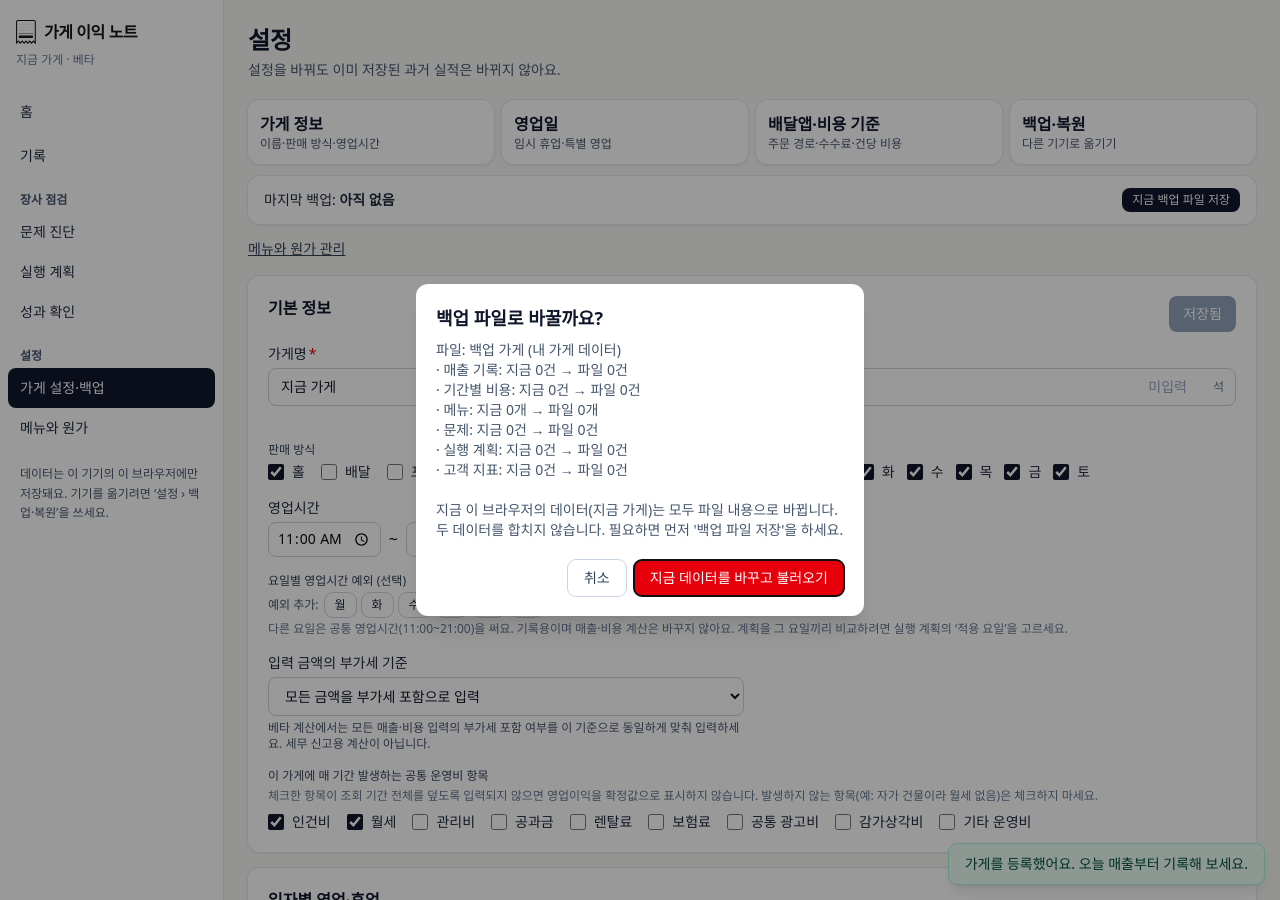
Scenario: 앱 스모크 테스트 › 백업 파일 불러오기: 바뀌는 범위를 보여주고 확인 후 덮어쓴다 (이전 버전 파일 포함)
The image size is (1280, 900).
Earlier steps of the test are not shown.
Click the button "지금 데이터를 바꾸고 불러오기": (739, 578) [634,560,844,596]
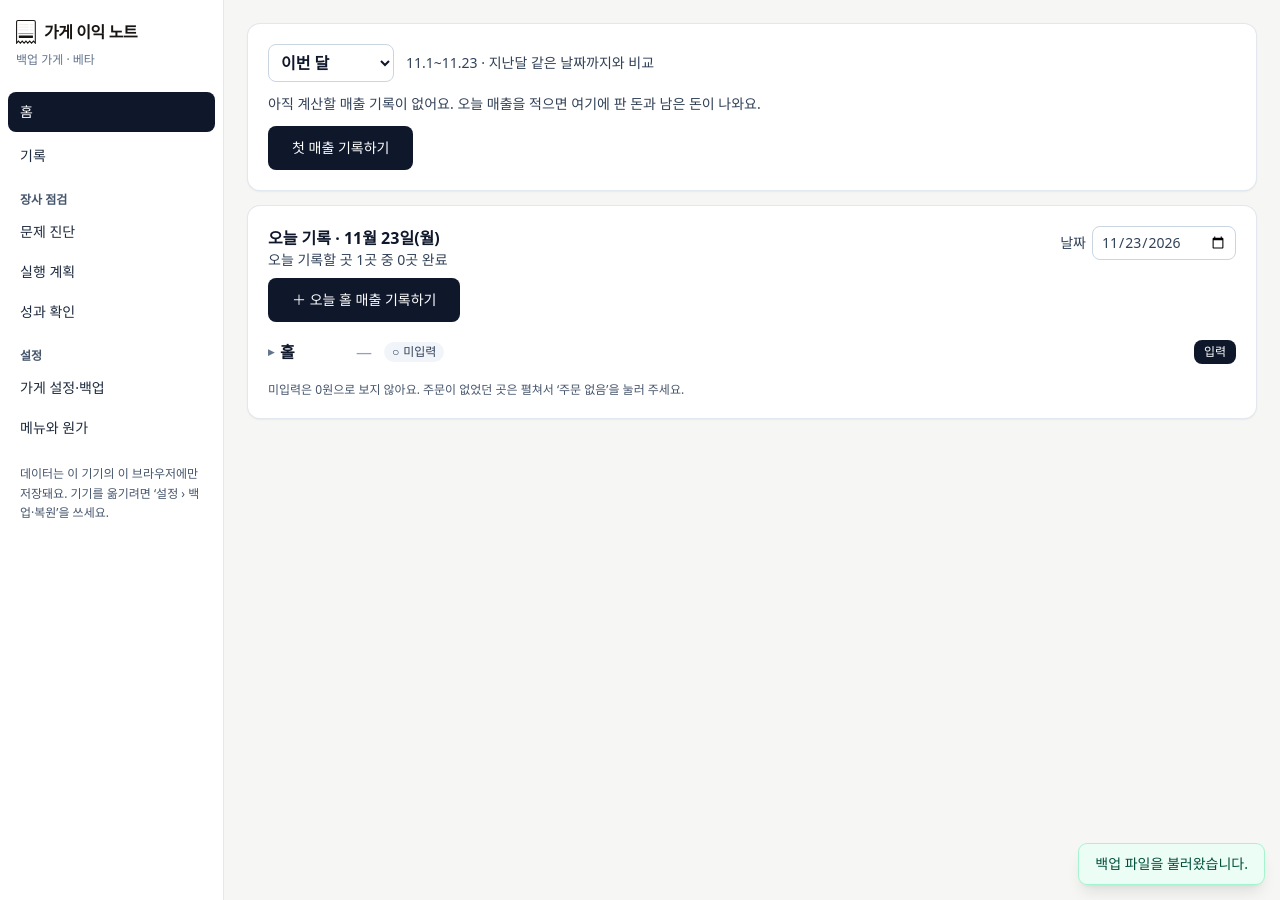
Now the text "백업 파일을 불러왔습니다" is shown, box [1095,854,1248,873]
